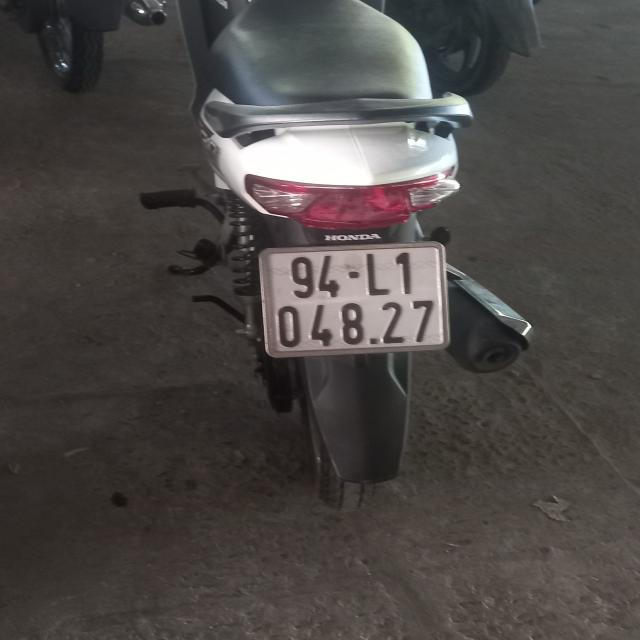0: (278, 306, 300, 346)
1: (393, 251, 411, 295)
2: (381, 302, 405, 343)
4: (318, 255, 340, 297), (310, 304, 332, 346)
7: (412, 300, 433, 342)
8: (341, 302, 364, 344)
9: (292, 257, 314, 298)
L: (366, 253, 390, 296)
